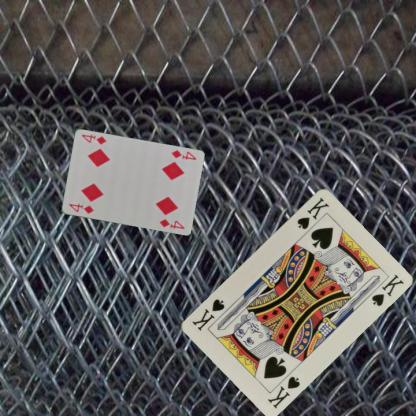4d: (66, 201, 95, 215), (169, 148, 197, 162)
Ks: (294, 194, 331, 231), (265, 373, 301, 410)
